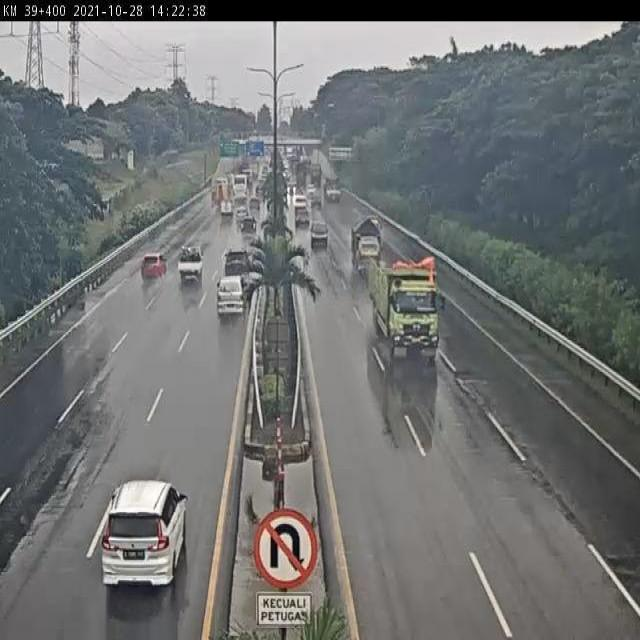car: (178, 246, 202, 282)
truck-l-: (367, 259, 441, 356)
truck-s-: (352, 216, 386, 281)
